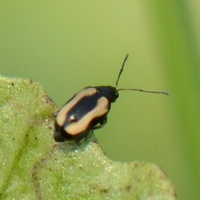insect: (54, 54, 168, 141)
